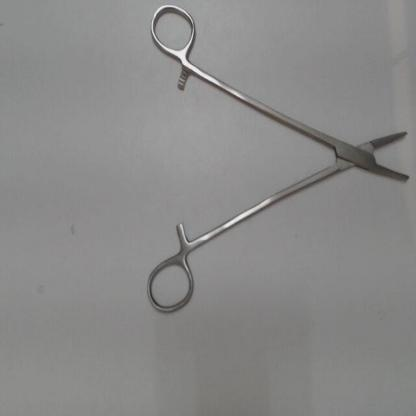8 Mayo Needle Holder: (139, 2, 415, 325)
